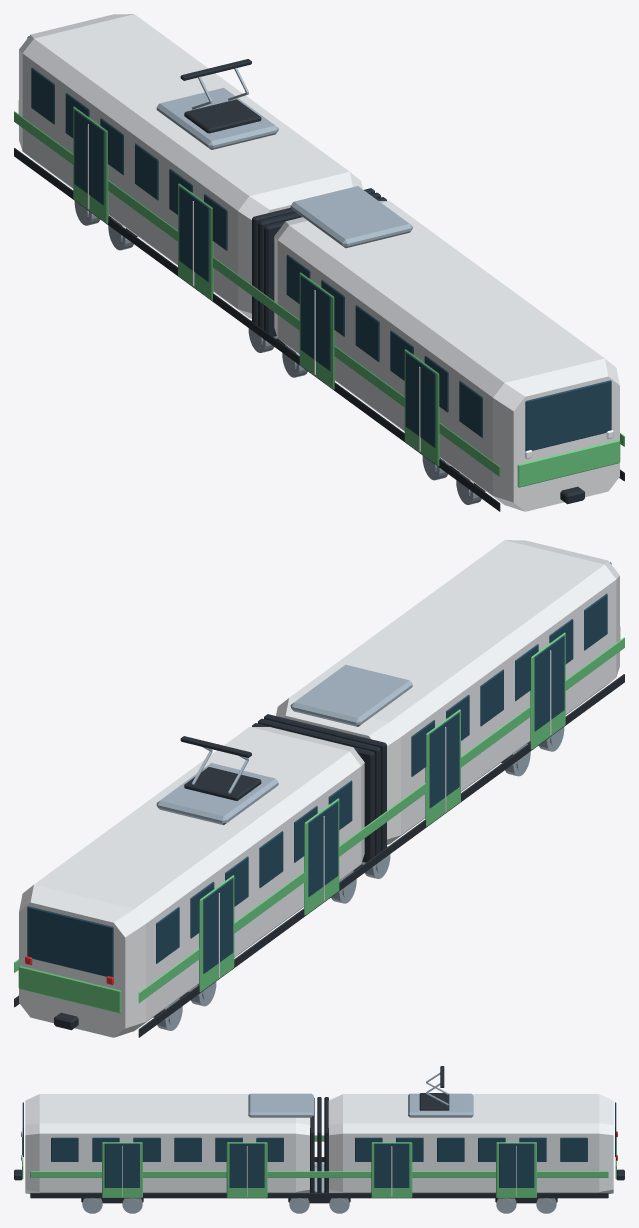
File: taiwan-lrt.glb
3 views of the same model, one above another, from view 1: azimuth 30°, elevation 25°; view 2: azimuth 150°, elevation 25°; view 3: azimuth 270°, elevation 25° (orthographic). The views are drawn at different scales.
Parts seen in each view (by area): view 1: Low-floor tram articulated section.001, Low-floor tram articulated section, Cab wrap windshield.001, Roof HVAC module.001, Distinctive waist stripe, Dark skirt sill, Roof HVAC module, Cab colored front lower panel.001, Tram door glazing.004, Tram door glazing, Tram door glazing.002, Tram door glazing.006 (+16 smaller); view 2: Low-floor tram articulated section, Low-floor tram articulated section.001, Cab wrap windshield, Roof HVAC module.001, Distinctive waist stripe, Dark skirt sill, Roof HVAC module, Cab colored front lower panel, Tram door glazing.002, Tram door glazing, Tram door glazing.004, Tram door glazing.006 (+16 smaller); view 3: Low-floor tram articulated section.001, Low-floor tram articulated section, Distinctive waist stripe.001, Dark skirt sill.001, Roof HVAC module.001, Tram door glazing.001, Tram door glazing.003, Tram door glazing.005, Tram door glazing.007, Roof HVAC module, Tram double-door border.003, Tram double-door border.005 (+18 smaller).
Boxes of the visible parts, left/top/right/bottom form: Low-floor tram articulated section.001: left=274, top=201, right=619, bottom=511; Low-floor tram articulated section: left=19, top=14, right=362, bottom=318; Cab wrap windshield.001: left=525, top=380, right=611, bottom=451; Roof HVAC module.001: left=290, top=186, right=412, bottom=248; Distinctive waist stripe: left=14, top=111, right=500, bottom=476; Dark skirt sill: left=14, top=148, right=500, bottom=511; Roof HVAC module: left=156, top=87, right=278, bottom=149; Cab colored front lower panel.001: left=517, top=440, right=620, bottom=487; Tram door glazing.004: left=300, top=275, right=330, bottom=370; Tram door glazing: left=74, top=110, right=104, bottom=205; Tram door glazing.002: left=179, top=186, right=209, bottom=282; Tram door glazing.006: left=405, top=352, right=435, bottom=447; Low-floor tram articulated section: left=19, top=727, right=364, bottom=1037; Low-floor tram articulated section.001: left=276, top=540, right=619, bottom=844; Cab wrap windshield: left=27, top=906, right=113, bottom=977; Roof HVAC module.001: left=290, top=664, right=412, bottom=726; Distinctive waist stripe: left=138, top=637, right=624, bottom=1002; Dark skirt sill: left=138, top=674, right=624, bottom=1037; Roof HVAC module: left=156, top=763, right=278, bottom=825; Cab colored front lower panel: left=18, top=966, right=121, bottom=1013; Tram door glazing.002: left=308, top=801, right=338, bottom=896; Tram door glazing: left=203, top=878, right=233, bottom=973; Tram door glazing.004: left=429, top=712, right=459, bottom=808; Tram door glazing.006: left=534, top=636, right=564, bottom=731; Low-floor tram articulated section.001: left=25, top=1094, right=310, bottom=1193; Low-floor tram articulated section: left=328, top=1094, right=613, bottom=1193; Distinctive waist stripe.001: left=30, top=1171, right=608, bottom=1177; Dark skirt sill.001: left=30, top=1193, right=608, bottom=1198; Roof HVAC module.001: left=248, top=1093, right=313, bottom=1117; Tram door glazing.001: left=499, top=1143, right=534, bottom=1187; Tram door glazing.003: left=374, top=1143, right=409, bottom=1187; Tram door glazing.005: left=229, top=1143, right=264, bottom=1187; Tram door glazing.007: left=104, top=1143, right=139, bottom=1187; Roof HVAC module: left=408, top=1093, right=473, bottom=1117; Tram double-door border.003: left=371, top=1142, right=412, bottom=1197; Tram double-door border.005: left=226, top=1142, right=267, bottom=1197.
Size of the model in its own units: 2.75 by 4.19 by 18.6.
